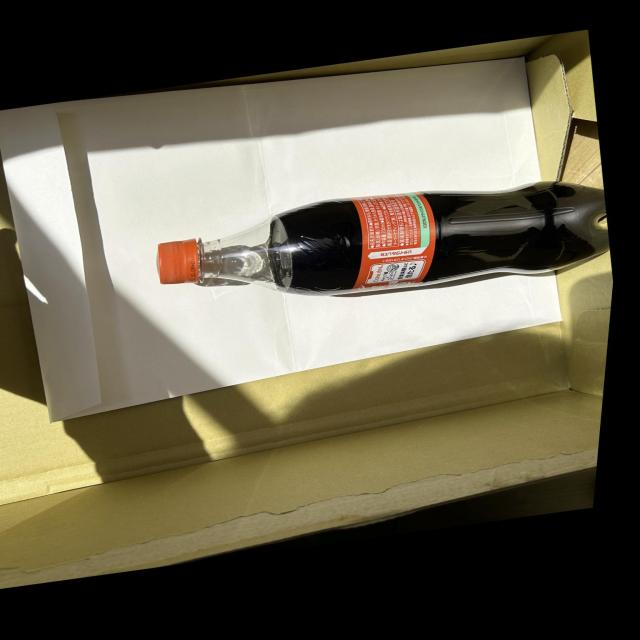high: (157, 182, 608, 295)
